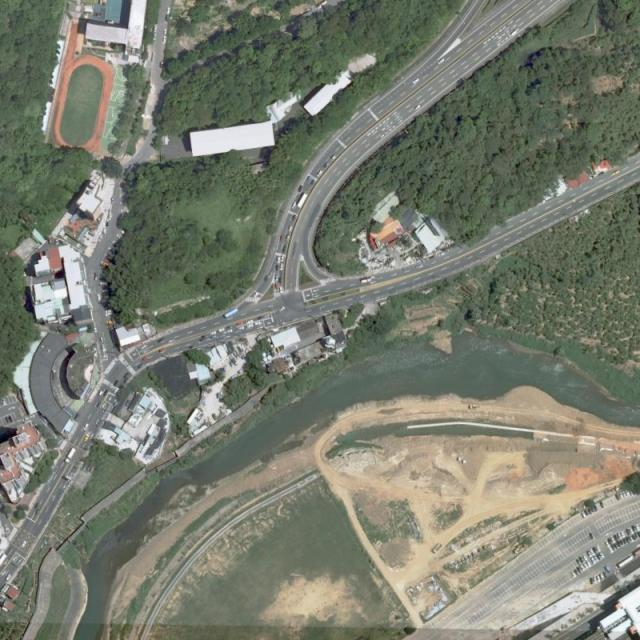vehicle: (618, 556, 634, 568), (66, 449, 77, 464), (298, 193, 308, 207), (224, 309, 238, 318), (157, 336, 166, 344), (594, 544, 602, 553), (330, 154, 338, 162), (82, 434, 90, 442), (142, 354, 150, 362), (610, 536, 618, 544), (570, 570, 578, 578), (291, 202, 298, 211), (582, 552, 589, 561), (605, 539, 612, 548), (159, 347, 167, 354), (590, 557, 597, 565), (588, 548, 595, 556), (83, 422, 90, 430), (438, 58, 445, 66), (278, 306, 286, 313), (582, 562, 589, 570), (627, 528, 634, 536), (114, 386, 120, 395), (412, 78, 419, 85), (613, 170, 620, 177), (574, 568, 581, 575), (291, 214, 297, 222), (298, 185, 304, 193), (309, 178, 315, 186), (362, 278, 370, 284), (218, 327, 226, 333), (166, 7, 172, 15), (226, 324, 234, 330), (279, 286, 284, 295), (22, 540, 27, 549), (288, 225, 294, 232), (324, 162, 330, 169), (634, 549, 640, 556), (593, 504, 599, 511), (599, 501, 605, 508), (586, 561, 593, 567), (6, 574, 12, 581), (103, 390, 109, 397), (610, 546, 616, 553), (236, 326, 244, 331), (317, 170, 322, 178), (581, 510, 586, 518), (414, 105, 422, 110), (594, 554, 599, 562), (106, 319, 114, 324), (617, 533, 622, 541), (210, 330, 216, 336), (280, 263, 284, 272), (579, 556, 585, 562), (96, 402, 102, 408), (594, 576, 598, 585), (247, 324, 254, 329), (255, 321, 262, 326), (280, 256, 285, 263), (162, 36, 167, 43), (597, 575, 602, 582), (587, 507, 592, 514), (622, 490, 627, 497), (98, 390, 103, 397), (615, 542, 620, 549), (621, 531, 626, 538), (578, 566, 583, 573), (226, 329, 233, 334), (246, 320, 254, 324), (626, 488, 630, 496), (274, 283, 279, 289), (604, 572, 609, 578), (619, 493, 624, 499), (598, 552, 603, 558), (577, 559, 582, 565), (590, 534, 595, 540), (106, 312, 112, 317), (635, 525, 640, 531), (237, 321, 243, 326), (277, 255, 281, 262), (286, 235, 290, 241), (590, 578, 594, 584), (114, 381, 118, 387), (276, 265, 279, 272), (276, 274, 279, 281), (99, 235, 102, 242), (154, 25, 157, 31), (106, 310, 112, 313), (101, 282, 107, 285), (164, 29, 167, 34), (112, 197, 114, 203)
